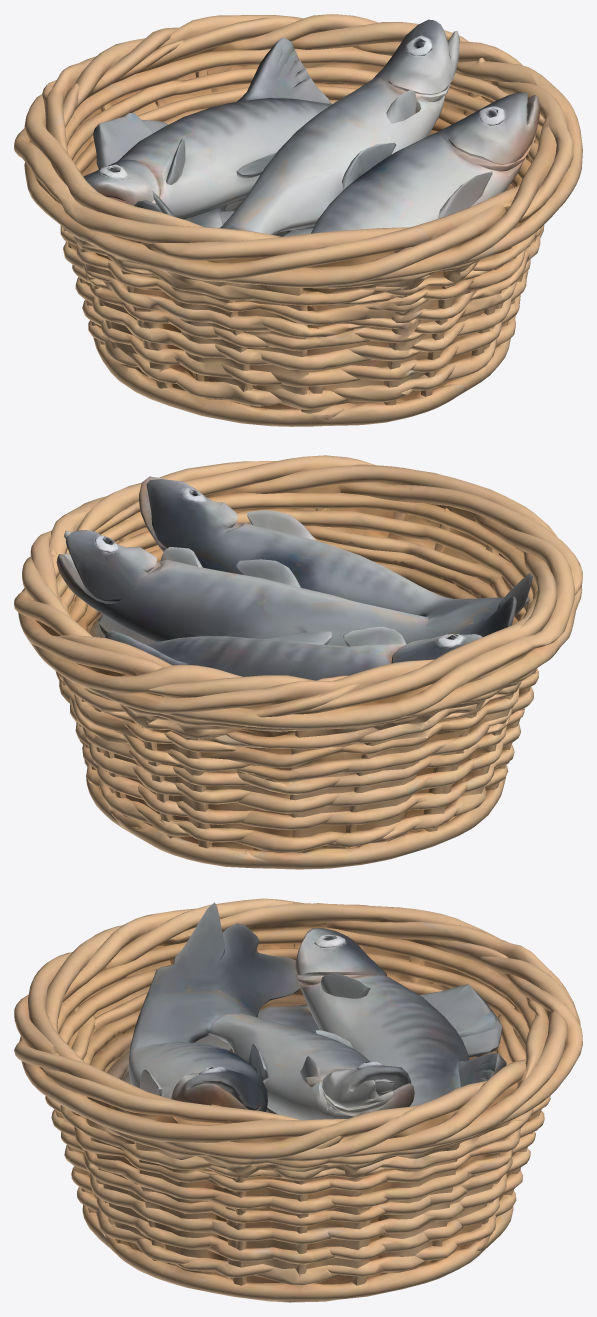
Rendered from herring.glb.
3 views of the same model, one above another, from view 1: azimuth 30°, elevation 25°; view 2: azimuth 150°, elevation 25°; view 3: azimuth 270°, elevation 25° (orthographic).
Parts seen in each view (by area): view 1: model; view 2: model; view 3: model.
Part boxes in pixels (x1=…): model: x1=14, y1=14, x2=582, y2=426; model: x1=14, y1=455, x2=582, y2=869; model: x1=14, y1=898, x2=582, y2=1302.
Size of the model in its own units: 0.5573 by 0.2662 by 0.57.
1 material, 1 textured.
